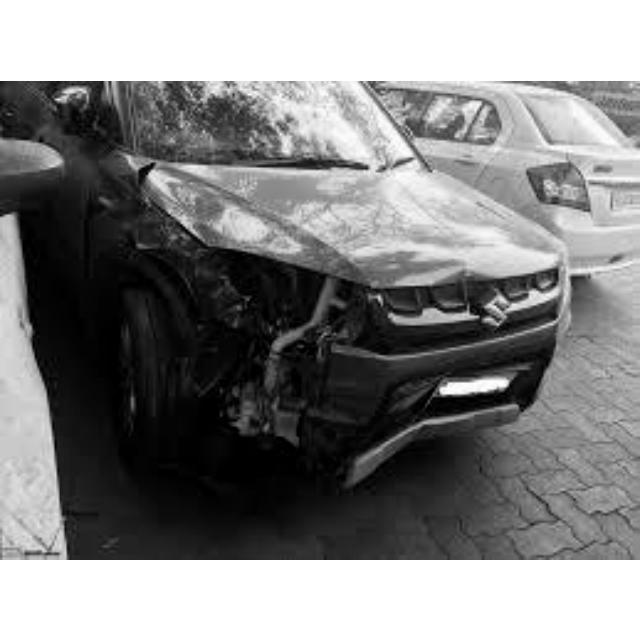bonnet-dent: (159, 162, 561, 290)
fender-dent: (82, 155, 163, 360)
front-bumper-dent: (216, 321, 571, 456)
